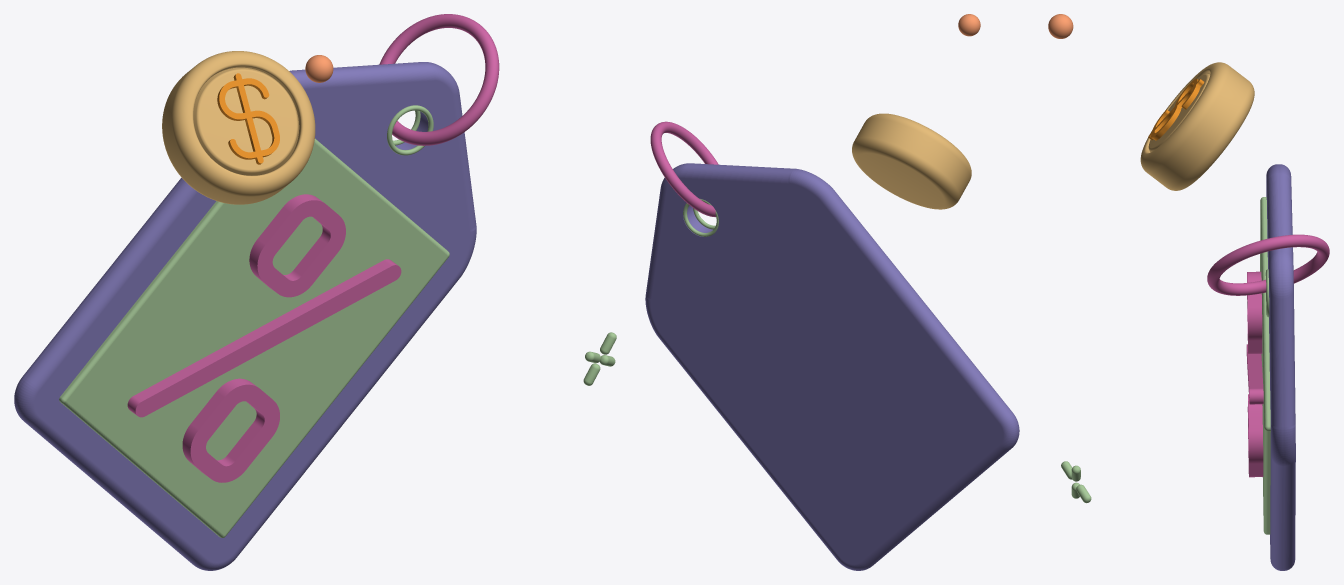
The model's file is price-tag-3d-animated-icon-1320047835550.glb.
3 renders of one model, left to right at view 1: azimuth 30°, elevation 25°; view 2: azimuth 150°, elevation 25°; view 3: azimuth 270°, elevation 25°, orthographic. The views are drawn at different scales.
Parts seen in each view (by area): view 1: Cube.001, Cube, Cylinder.001, Curve, Curve.002, Curve.001, Torus.001, Curve.003, Torus, Cylinder.020; view 2: Cube, Cylinder.001, Torus.001; view 3: Cube, Cylinder.001, Torus.001, Cube.001, Curve.002, Curve.001, Curve.003, Curve, Cylinder.020, Sphere.004.
Part boxes in pixels (bbox=[...]): Cube.001: bbox=[59, 138, 449, 537]; Cube: bbox=[14, 62, 476, 570]; Cylinder.001: bbox=[162, 51, 315, 204]; Curve: bbox=[127, 259, 401, 417]; Curve.002: bbox=[182, 378, 279, 482]; Curve.001: bbox=[249, 194, 345, 297]; Torus.001: bbox=[379, 14, 499, 145]; Curve.003: bbox=[217, 73, 279, 164]; Torus: bbox=[387, 105, 433, 155]; Cylinder.020: bbox=[583, 332, 616, 385]; Cube: bbox=[645, 163, 1019, 570]; Cylinder.001: bbox=[852, 113, 971, 209]; Torus.001: bbox=[650, 121, 718, 217]; Cube: bbox=[1266, 164, 1295, 570]; Cylinder.001: bbox=[1140, 62, 1254, 190]; Torus.001: bbox=[1207, 234, 1329, 295]; Cube.001: bbox=[1260, 197, 1270, 534]; Curve.002: bbox=[1247, 394, 1263, 477]; Curve.001: bbox=[1247, 271, 1262, 353]; Curve.003: bbox=[1148, 78, 1204, 140]; Curve: bbox=[1246, 344, 1263, 404]; Cylinder.020: bbox=[1061, 461, 1091, 503]; Sphere.004: bbox=[1048, 14, 1073, 38].
Size of the model in its own units: 1.67 by 1.97 by 0.9233.
